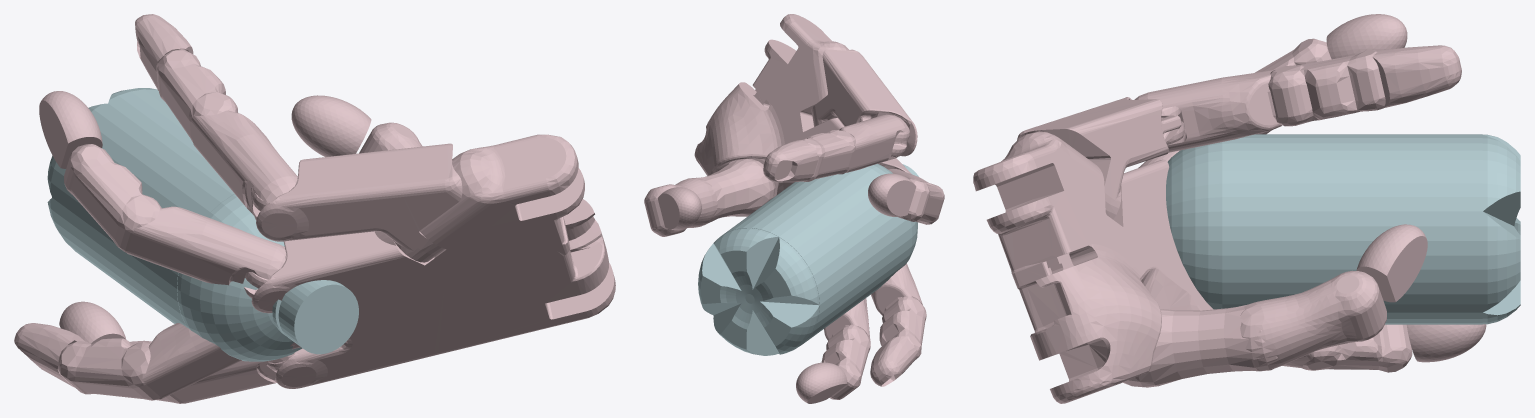
Rendered from grasp_4.glb.
3 views of the same model, side by side, from view 1: azimuth 30°, elevation 25°; view 2: azimuth 150°, elevation 25°; view 3: azimuth 270°, elevation 25° (orthographic). The views are drawn at different scales.
Parts seen in each view (by area): view 1: world; view 2: world; view 3: world.
Part boxes in pixels (x1,y1,x2,y2): world: (14,14,615,403); world: (644,14,944,403); world: (973,14,1520,403).
Bounding box in the file's own units: 0.1619 × 0.1223 × 0.1734.
